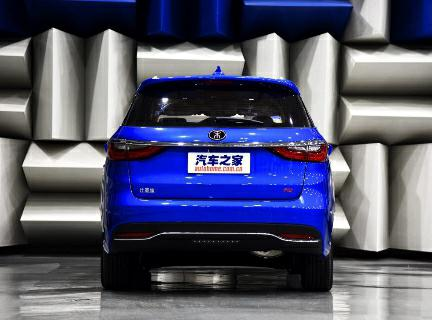比亚迪-宋MAX: (91, 65, 343, 308)
